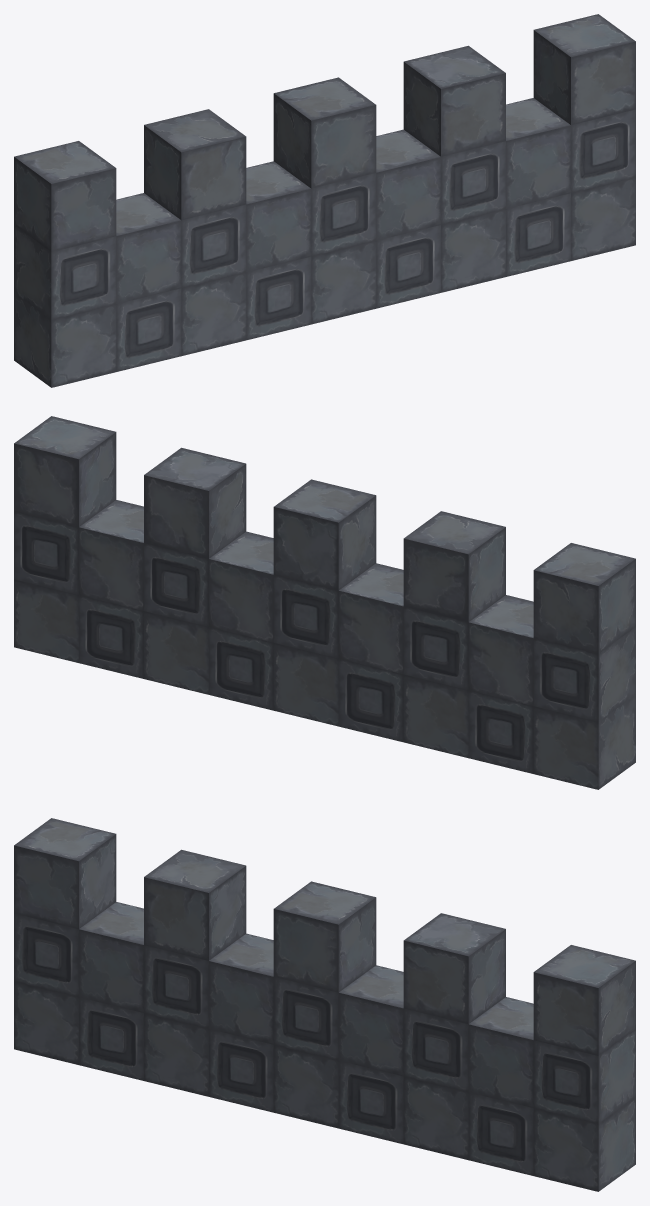
The model's file is Castle Deco 13.fbx.
The picture shows the model from 3 angles, top to bottom: view 1: azimuth 30°, elevation 25°; view 2: azimuth 150°, elevation 25°; view 3: azimuth 330°, elevation 25°; orthographic projection.
Visible parts, largest first — view 1: Castle Deco 13; view 2: Castle Deco 13; view 3: Castle Deco 13.
Part boxes in pixels (bbox=[...]): Castle Deco 13: bbox=[14, 14, 635, 387]; Castle Deco 13: bbox=[14, 416, 635, 789]; Castle Deco 13: bbox=[14, 818, 635, 1191].
Size of the model in its own units: 6.75 by 2.25 by 0.75.
